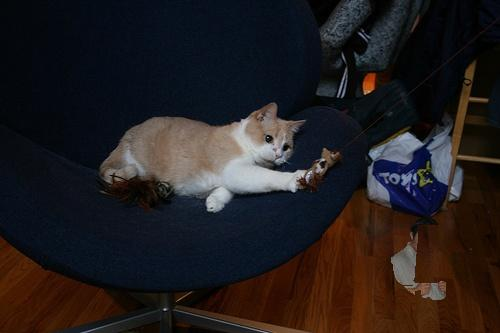tampered: (392, 219, 446, 300)
